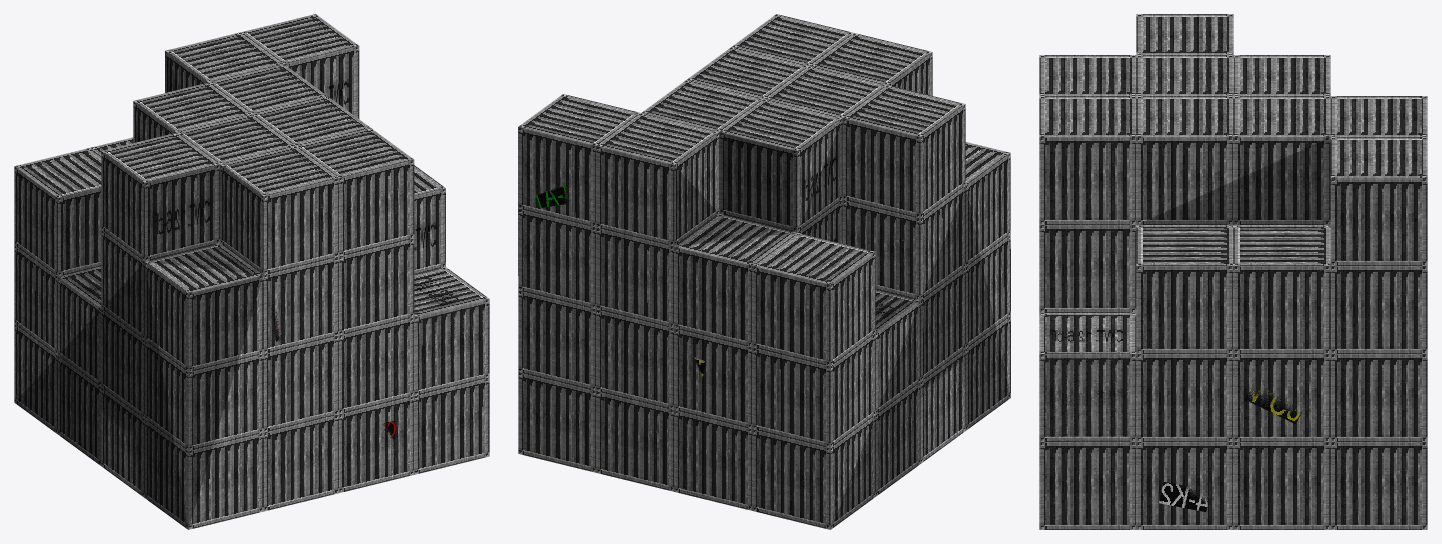
Rendered from metal_crate_stack.glb.
3 renders of one model, left to right at view 1: azimuth 30°, elevation 25°; view 2: azimuth 150°, elevation 25°; view 3: azimuth 270°, elevation 25°, orthographic. The views are drawn at different scales.
Visible parts, largest first — view 1: Object; view 2: Object; view 3: Object.
Part boxes in pixels (x1=…): Object: x1=14, y1=14, x2=489, y2=529; Object: x1=518, y1=14, x2=1010, y2=529; Object: x1=1039, y1=14, x2=1427, y2=529.
Size of the model in its own units: 4.01 by 4.01 by 4.01.
Materials: 12 (12 with a texture image).
